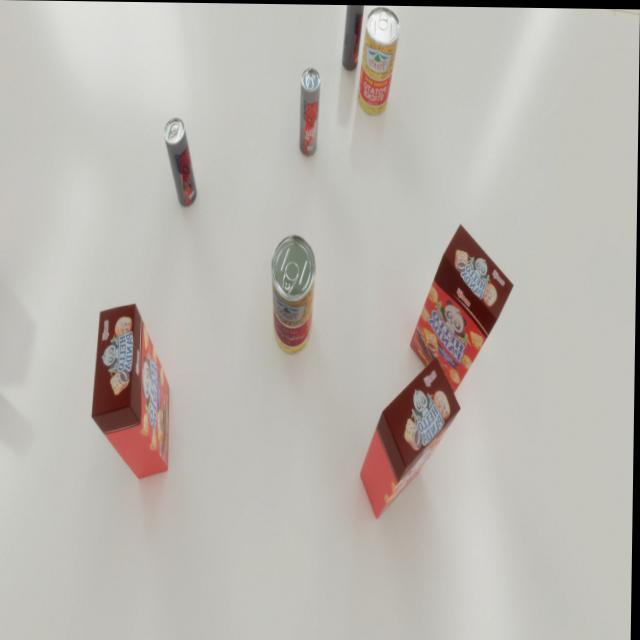HelloPanda: (410, 222, 515, 400), (361, 355, 462, 519), (92, 302, 172, 479)
Potato_sticks: (271, 234, 317, 354), (358, 5, 401, 115)
Rita_zero_sugar: (163, 117, 198, 207), (300, 67, 321, 156), (342, 4, 366, 70)
Salt: (439, 287, 474, 339)
